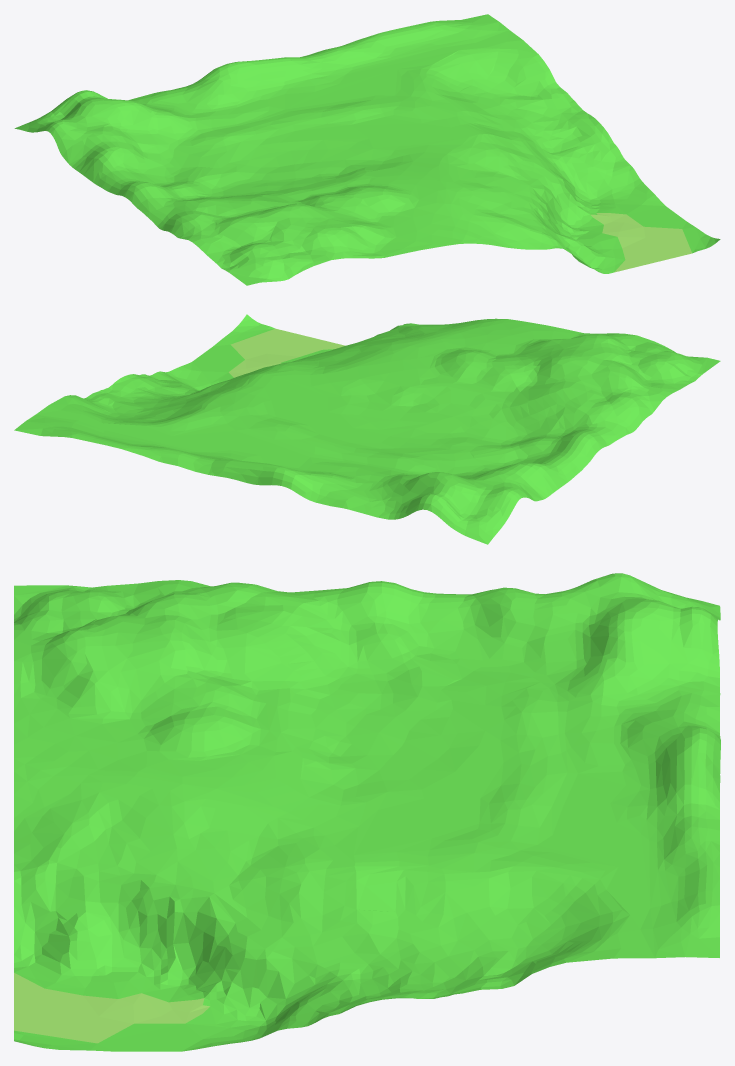
Rendered from Mapka.fbx.
3 views of the same model, one above another, from view 1: azimuth 30°, elevation 25°; view 2: azimuth 150°, elevation 25°; view 3: azimuth 270°, elevation 25° (orthographic). The views are drawn at different scales.
Visible parts, largest first — view 1: Plane; view 2: Plane; view 3: Plane.
Boxes of the visible parts, x1,y1,x2,y2 form: Plane: [14, 14, 720, 285]; Plane: [14, 314, 720, 544]; Plane: [14, 573, 720, 1051].
Size of the model in its own units: 75402 by 14634 by 64131.
